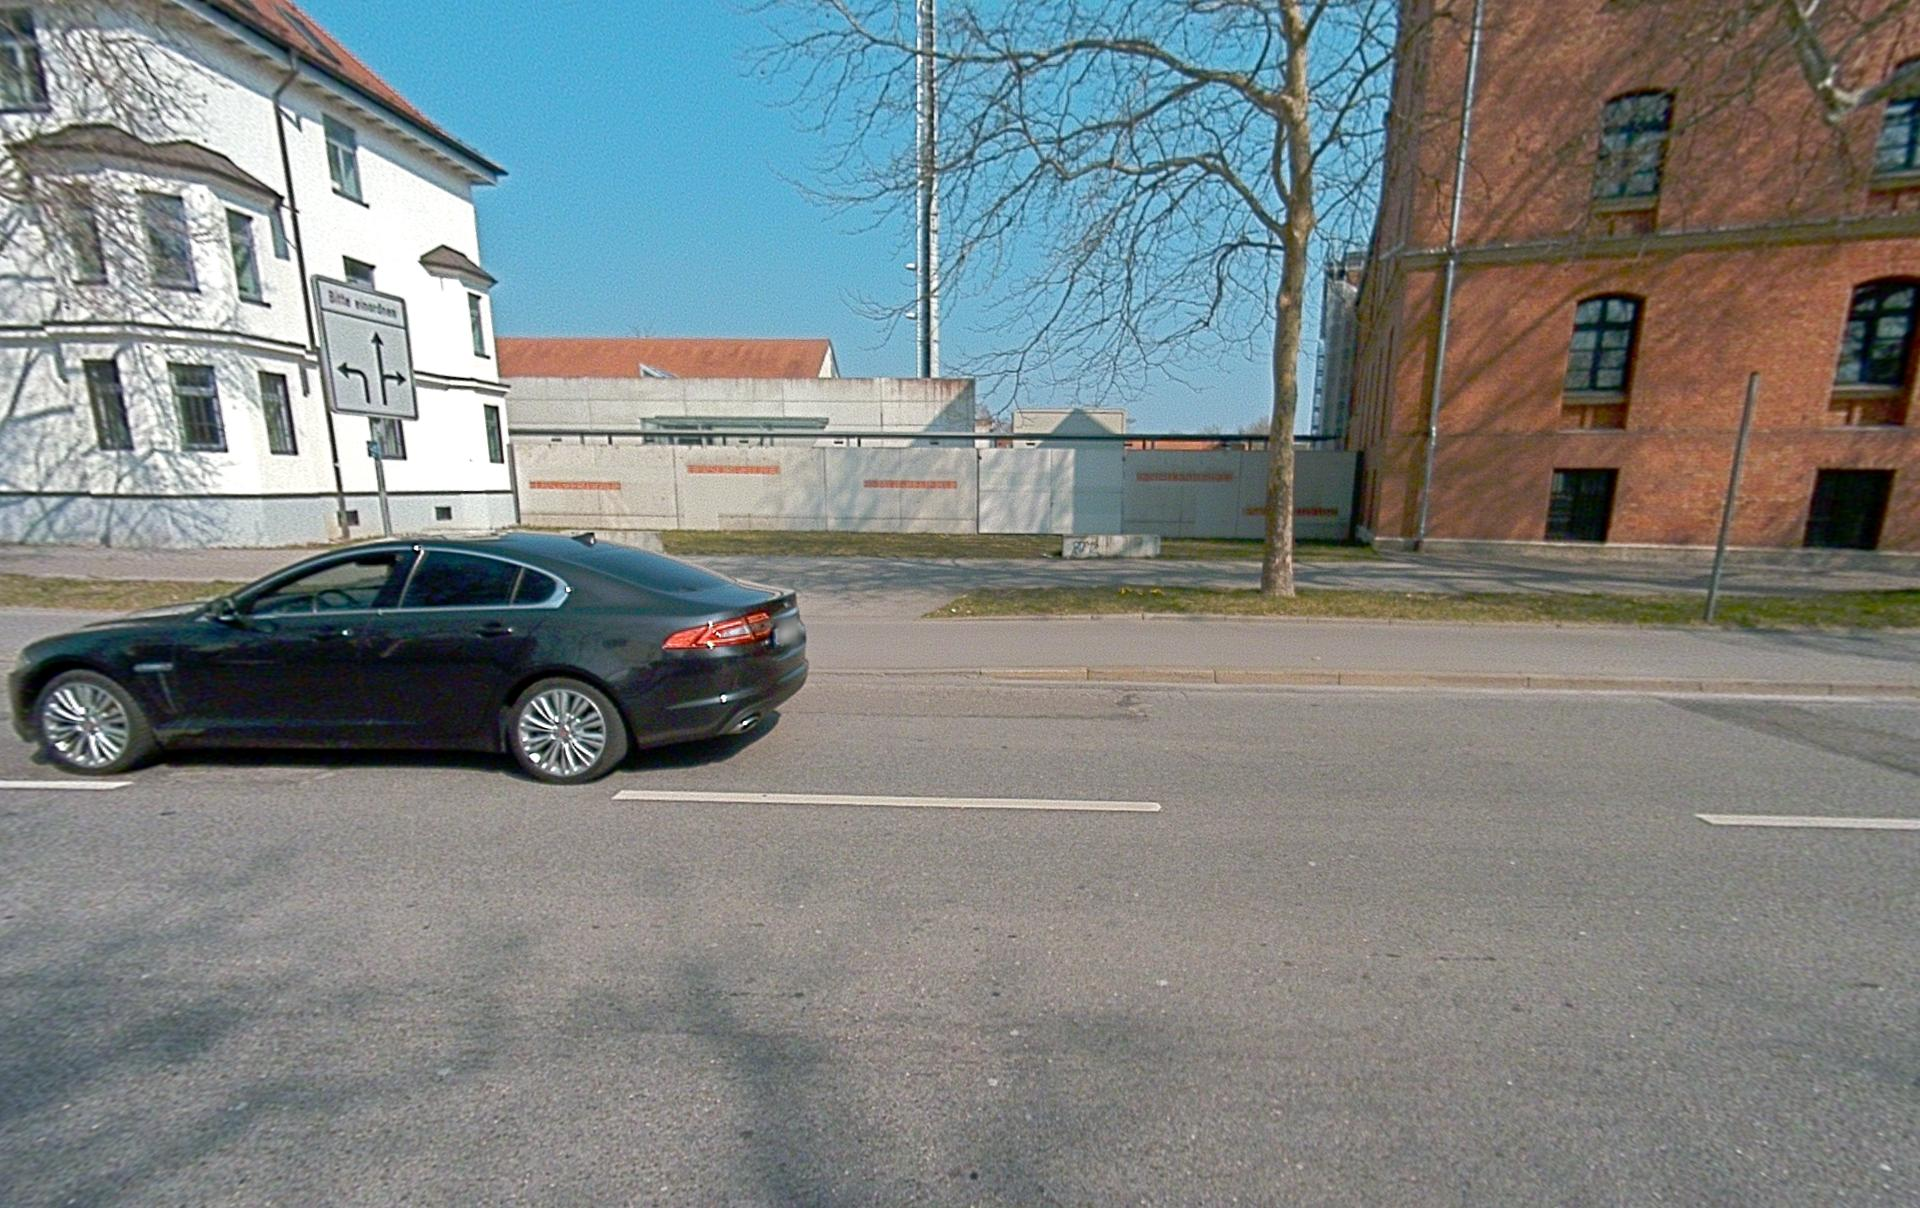car: (11, 531, 807, 782)
